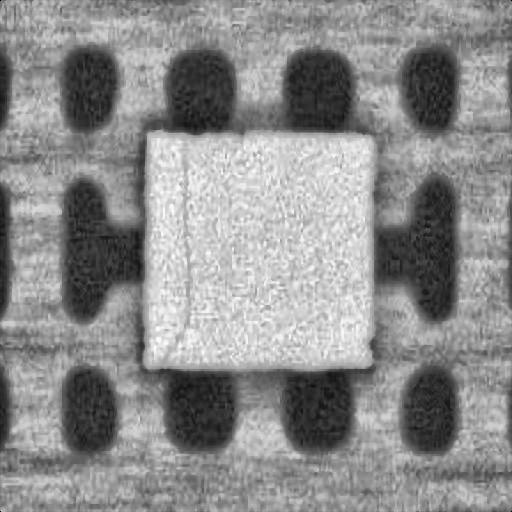DIE_CRACK: (163, 138, 191, 353)
